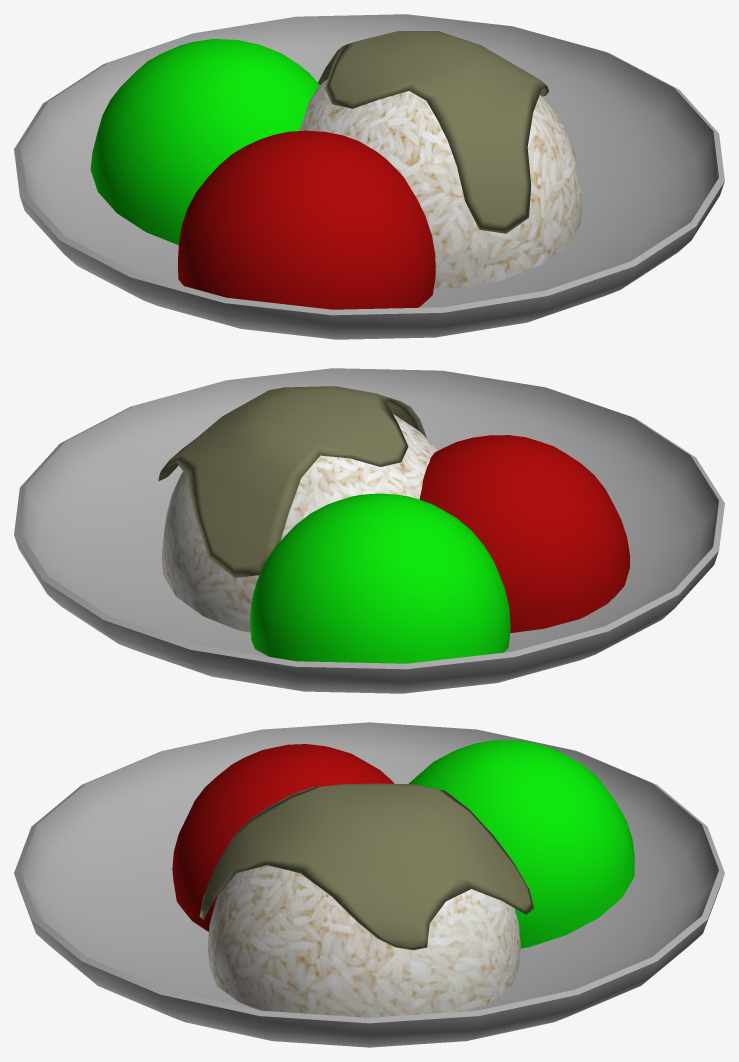
File: meal.fbx
3 views of the same model, one above another, from view 1: azimuth 30°, elevation 25°; view 2: azimuth 150°, elevation 25°; view 3: azimuth 270°, elevation 25° (orthographic).
Visible parts, largest first — view 1: polySurface10, polySurface9, polySurface8, polySurface11, polySurface7; view 2: polySurface10, polySurface8, polySurface9, polySurface7, polySurface11; view 3: polySurface10, polySurface11, polySurface7, polySurface8, polySurface9.
Part boxes in pixels (x1=…): polySurface10: x1=14, y1=14, x2=724, y2=339; polySurface9: x1=178, y1=130, x2=435, y2=309; polySurface8: x1=90, y1=39, x2=319, y2=244; polySurface11: x1=299, y1=79, x2=582, y2=288; polySurface7: x1=318, y1=31, x2=548, y2=233; polySurface10: x1=14, y1=368, x2=724, y2=693; polySurface8: x1=250, y1=493, x2=510, y2=663; polySurface9: x1=419, y1=435, x2=629, y2=633; polySurface7: x1=158, y1=386, x2=426, y2=577; polySurface11: x1=161, y1=414, x2=437, y2=632; polySurface10: x1=14, y1=722, x2=724, y2=1047; polySurface11: x1=207, y1=865, x2=520, y2=1017; polySurface7: x1=199, y1=783, x2=534, y2=950; polySurface8: x1=408, y1=740, x2=634, y2=948; polySurface9: x1=172, y1=744, x2=394, y2=931.
Size of the model in its own units: 1.22 by 0.3568 by 1.22.
